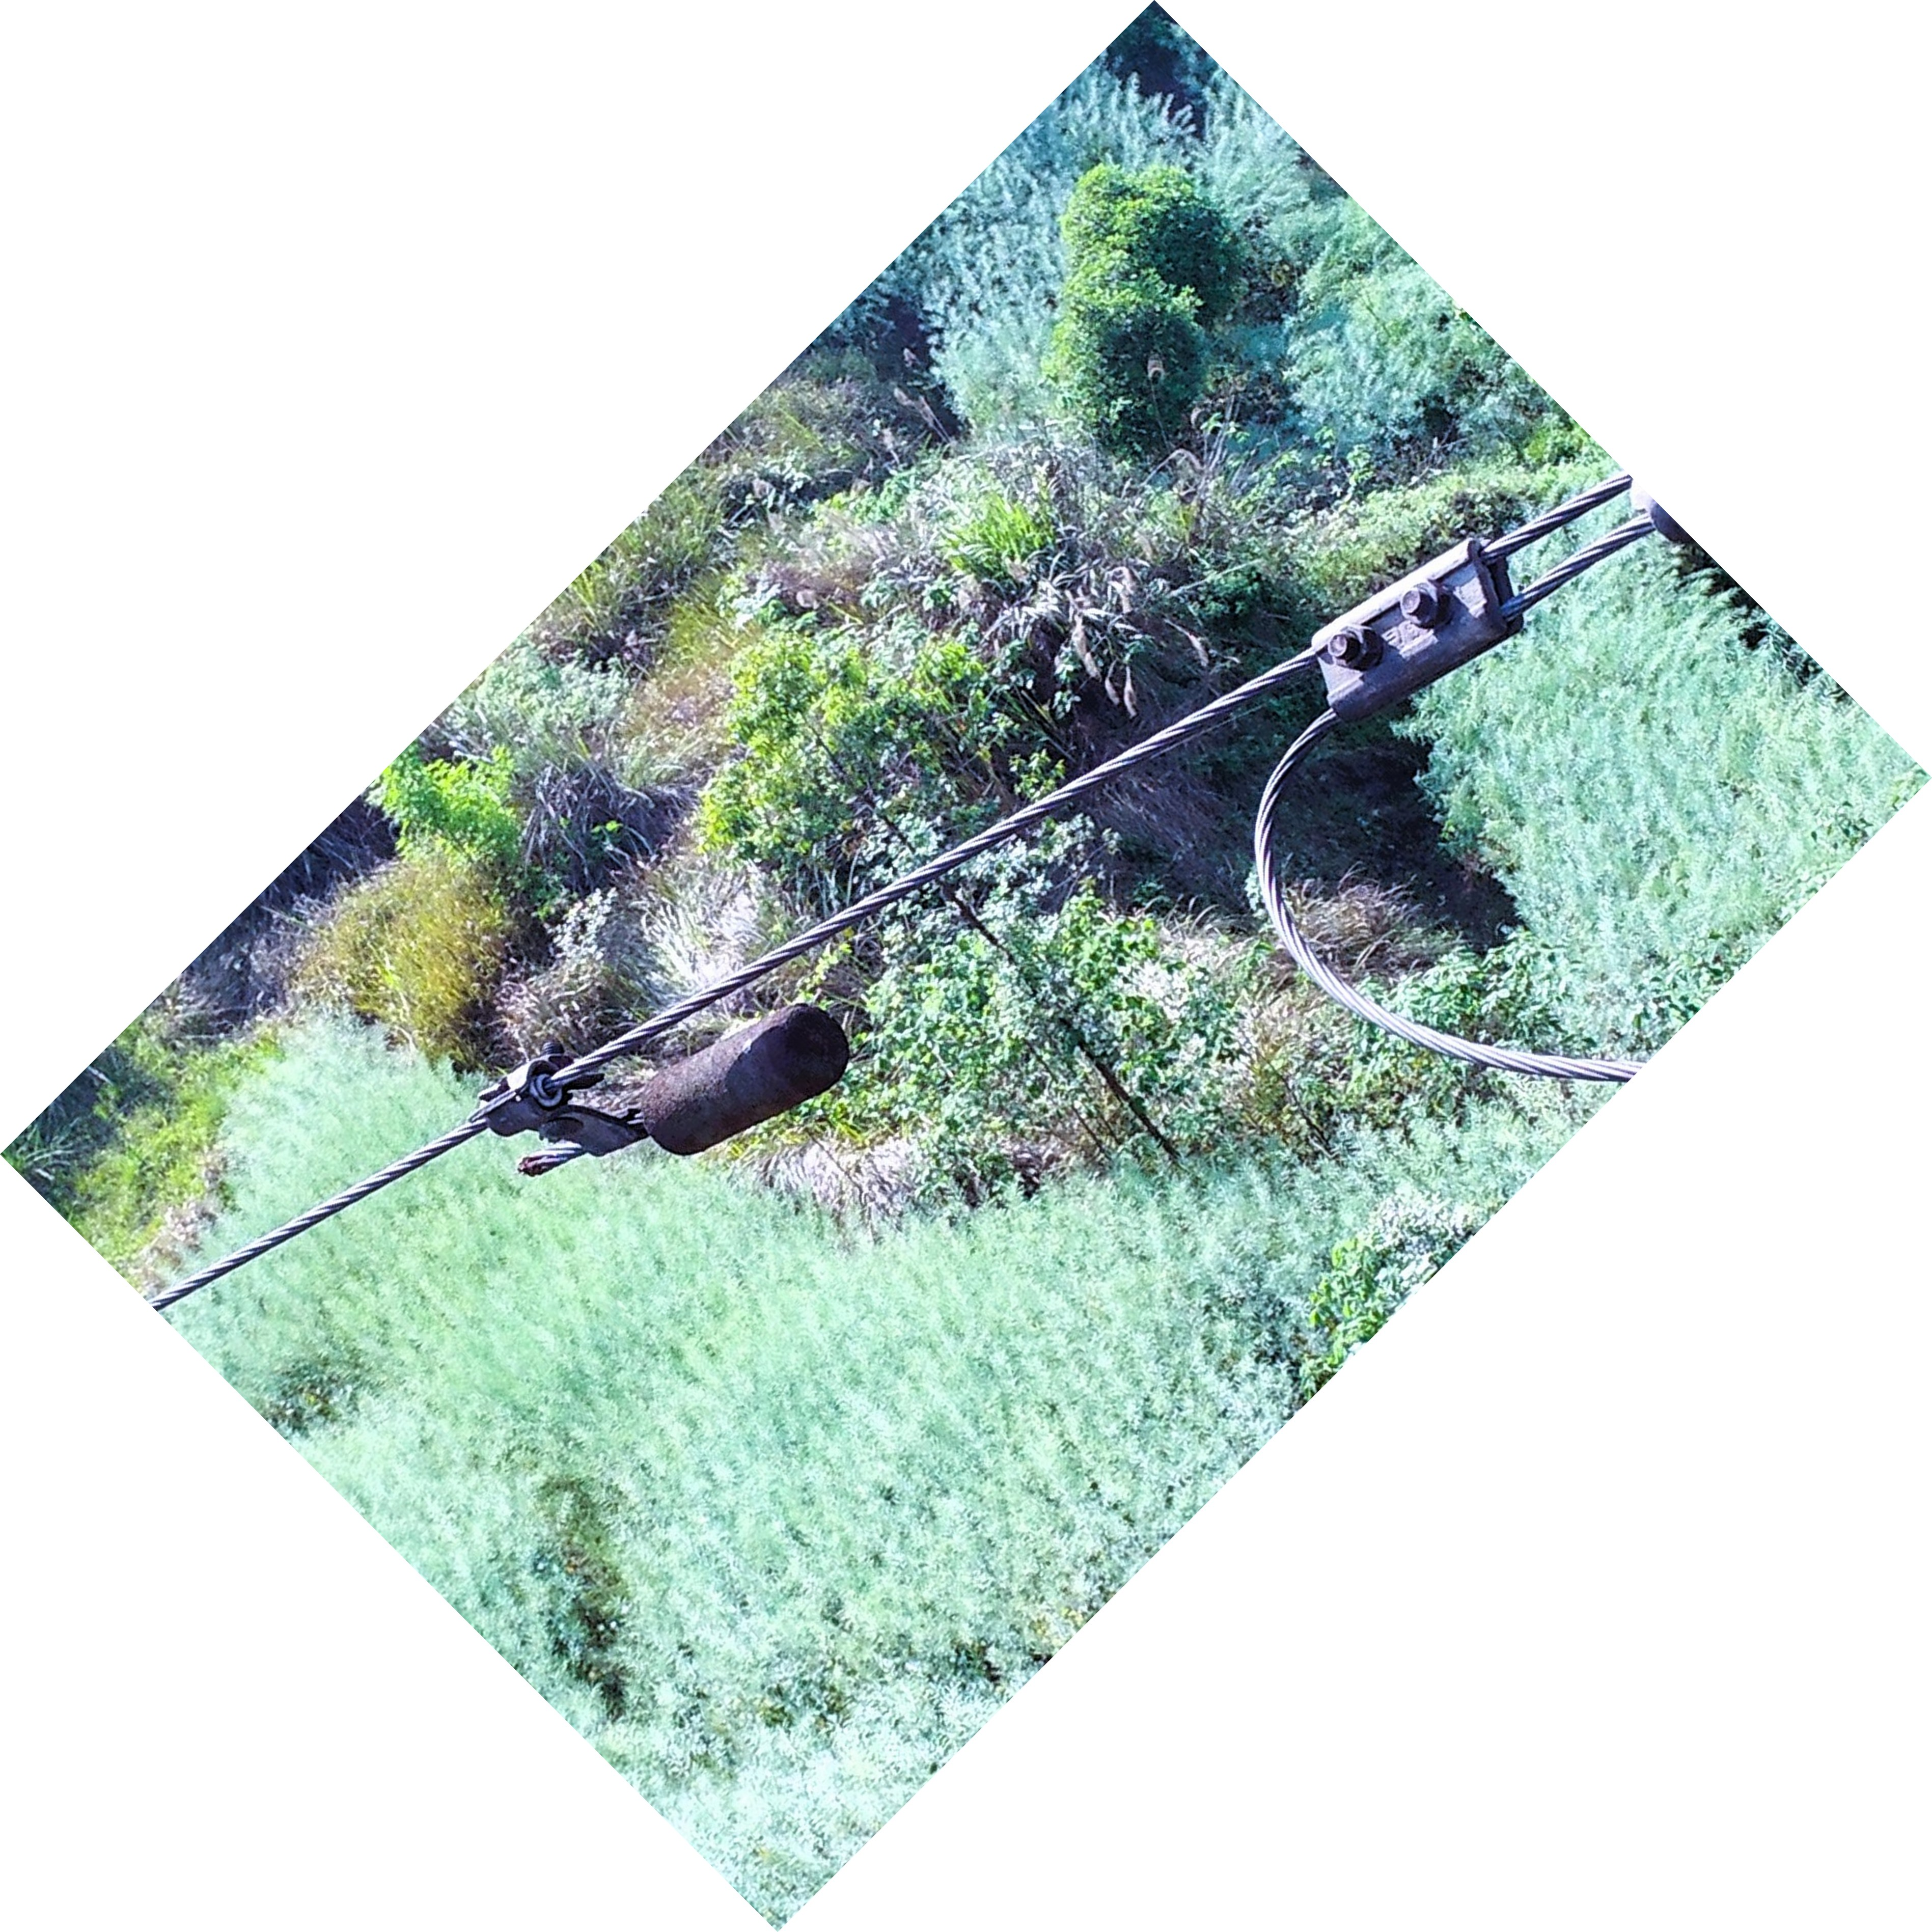Damage of shockproof hammer: (458, 945, 874, 1224)
